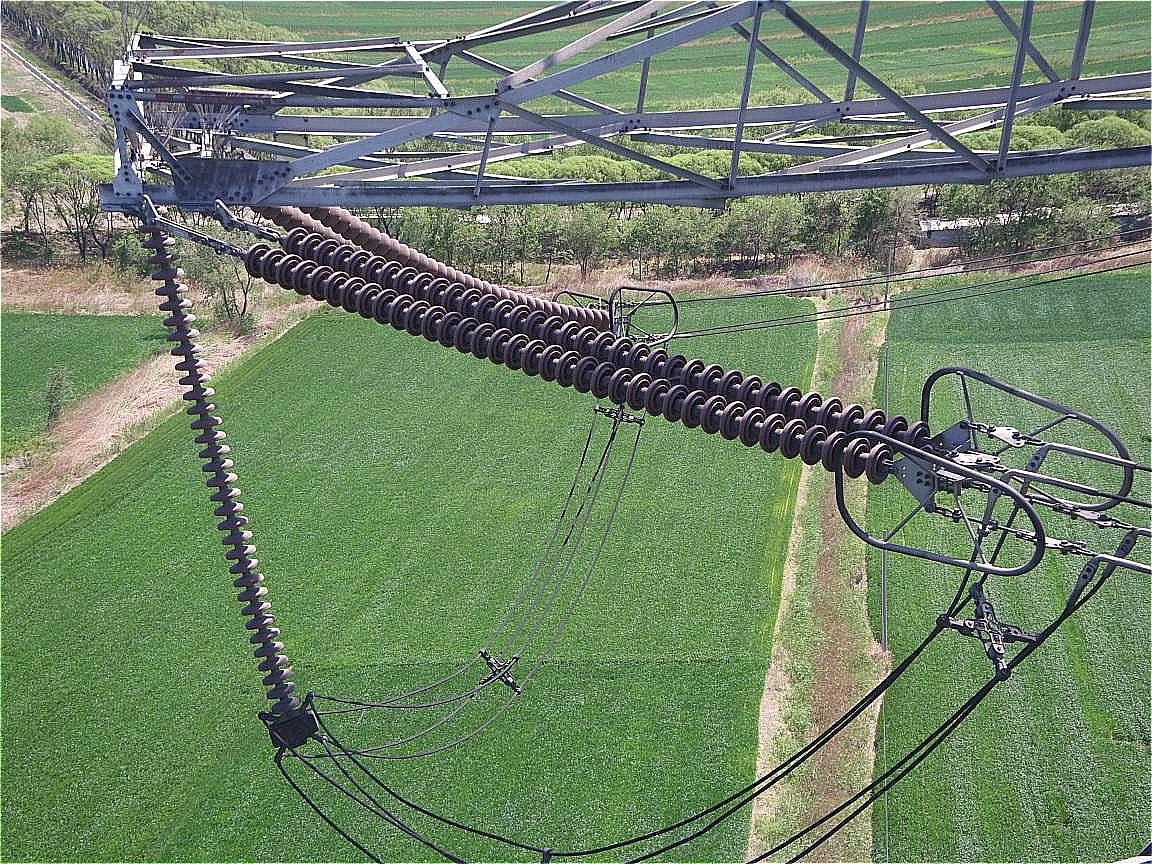insultor1: (237, 228, 915, 477), (125, 228, 307, 704)
